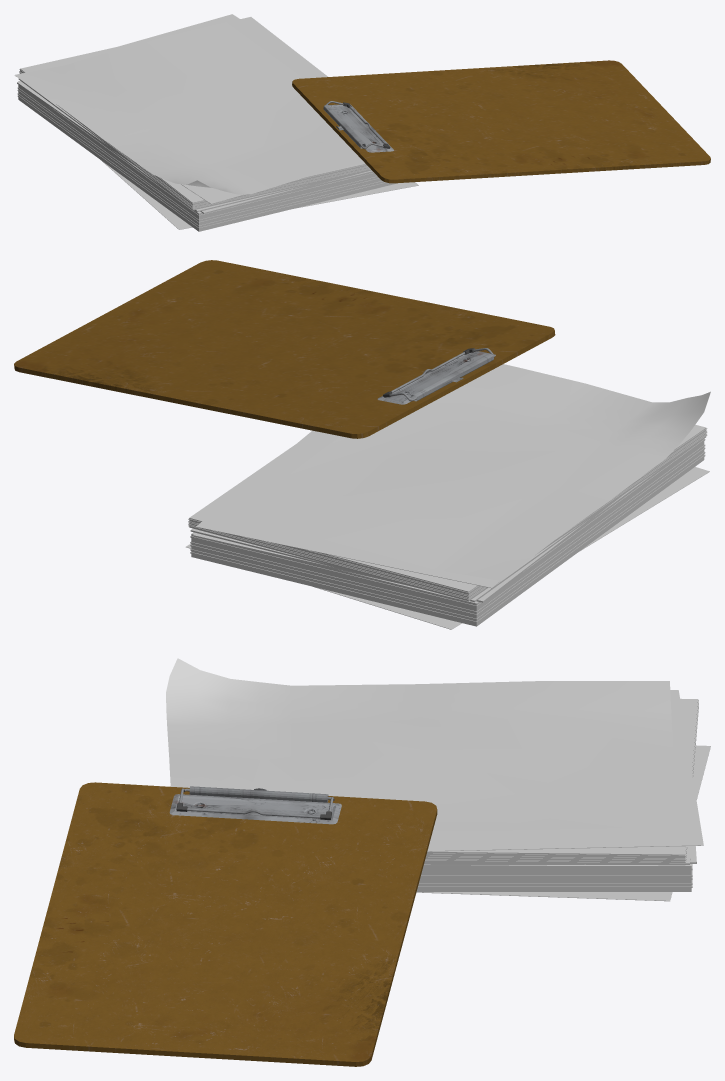
File: painting_folder.glb
The picture shows the model from 3 angles, top to bottom: view 1: azimuth 30°, elevation 25°; view 2: azimuth 150°, elevation 25°; view 3: azimuth 270°, elevation 25°; orthographic projection. The views are drawn at different scales.
Parts seen in each view (by area): view 1: Cube.013, object 1; view 2: Cube.013, object 1; view 3: object 1, Cube.013.
Boxes of the visible parts, bbox=[...] form: Cube.013: bbox=[14, 14, 418, 231]; object 1: bbox=[292, 60, 710, 183]; Cube.013: bbox=[186, 364, 710, 629]; object 1: bbox=[14, 260, 555, 438]; object 1: bbox=[14, 782, 437, 1066]; Cube.013: bbox=[166, 658, 710, 901].
Bounding box in the file's own units: 0.7335 × 0.077 × 0.6331.
5 materials, 2 textured.
